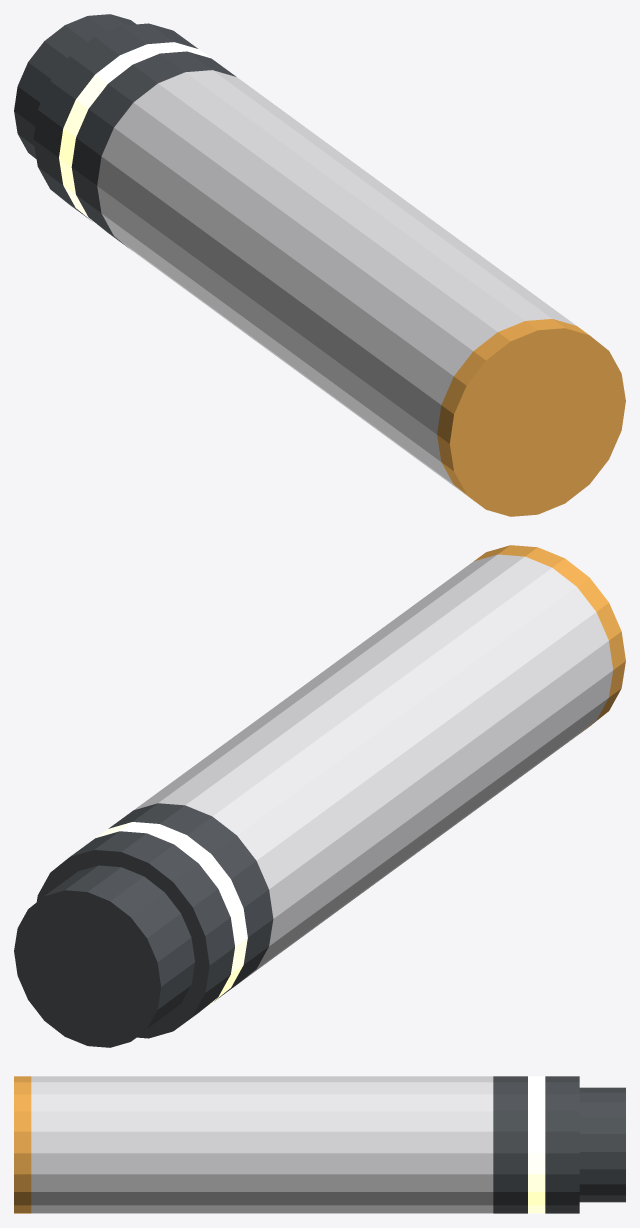
The model's file is prox-m12.glb.
3 renders of one model, top to bottom at view 1: azimuth 30°, elevation 25°; view 2: azimuth 150°, elevation 25°; view 3: azimuth 270°, elevation 25°, orthographic. The views are drawn at different scales.
Parts seen in each view (by area): view 1: body, port-x1, led-out; view 2: body, port-x1, led-out; view 3: body, port-x1, led-out.
Boxes of the visible parts, box(x1,y1,x2,y2) form: body: box(33, 23, 625, 516); port-x1: box(14, 14, 135, 159); led-out: box(59, 42, 210, 230); body: box(36, 545, 625, 1038); port-x1: box(14, 865, 194, 1047); led-out: box(96, 822, 247, 1010); body: box(14, 1076, 579, 1213); port-x1: box(579, 1087, 625, 1202); led-out: box(528, 1076, 545, 1213).
Size of what is drawn, in the model's own units: 0.012 by 0.012 by 0.053.
